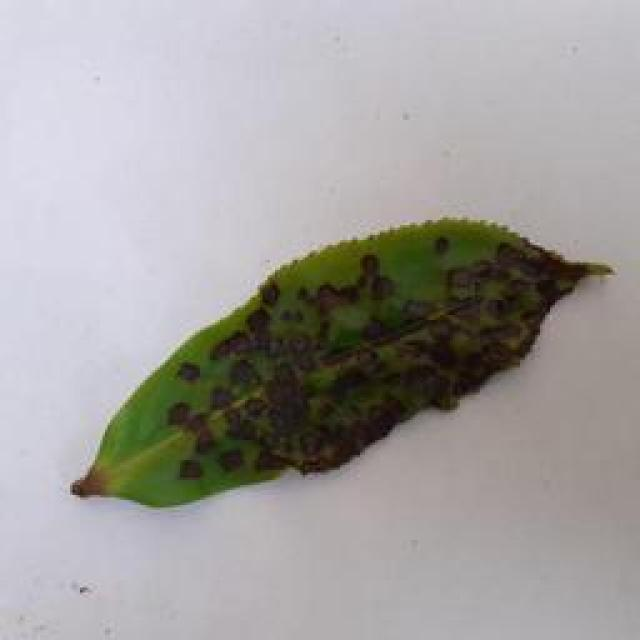Helopeltis: (60, 204, 628, 516)
